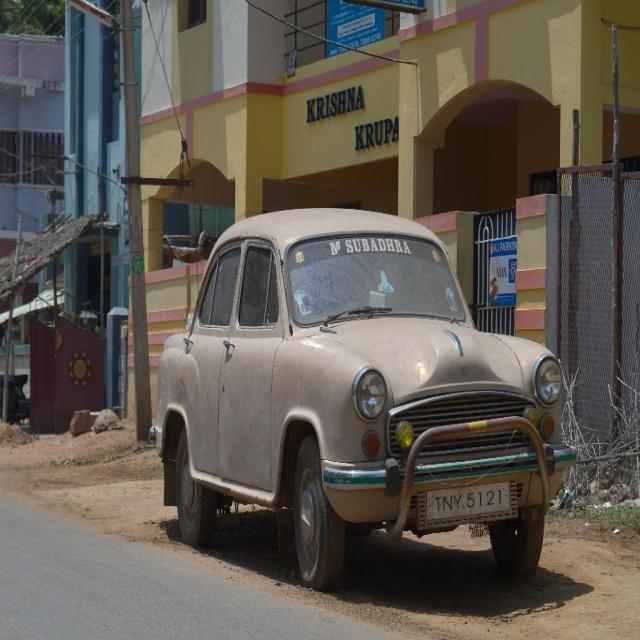car: (148, 205, 576, 593)
